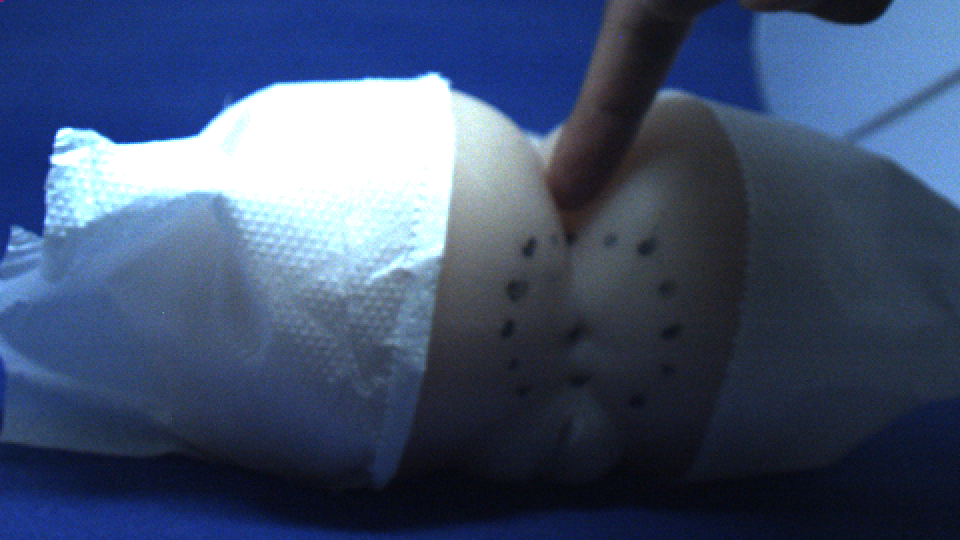asarp_marker: (654, 272, 682, 303), (510, 230, 542, 257), (637, 233, 670, 258), (660, 323, 690, 345), (503, 275, 531, 298), (493, 318, 522, 340), (556, 228, 581, 250), (630, 388, 652, 412), (569, 376, 597, 391), (516, 383, 542, 399), (597, 232, 620, 250), (503, 355, 530, 370), (659, 360, 678, 381)
